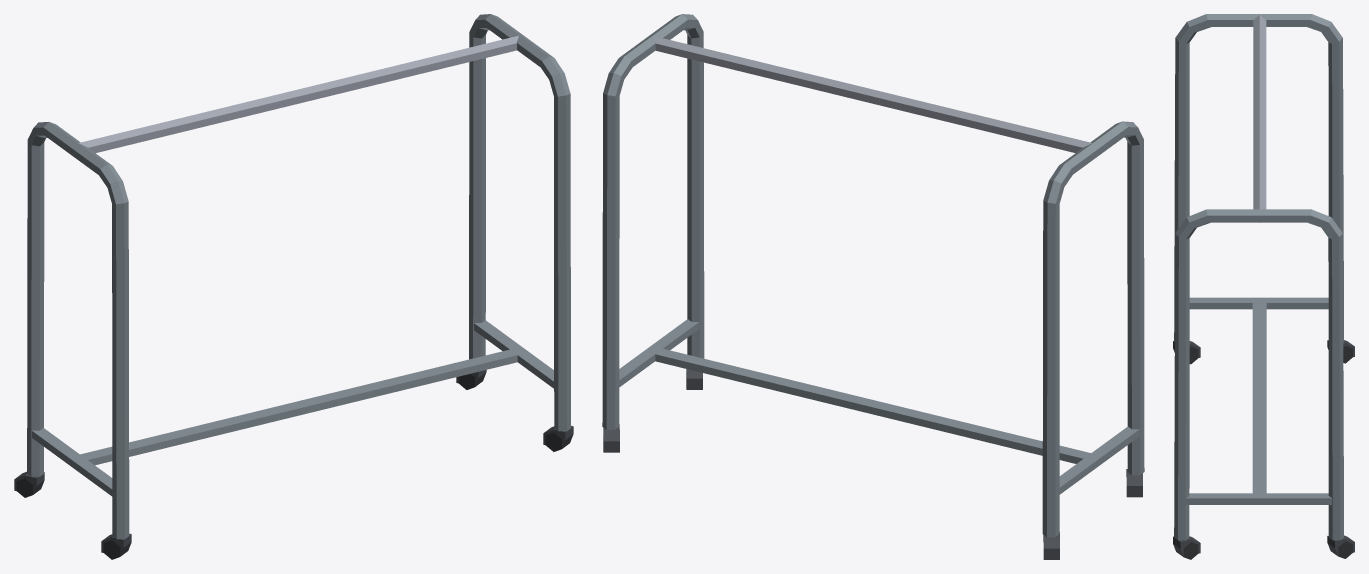
Rendered from SM_Prop_Clothes_Rack_07.fbx.
3 renders of one model, left to right at view 1: azimuth 30°, elevation 25°; view 2: azimuth 150°, elevation 25°; view 3: azimuth 270°, elevation 25°, orthographic. The views are drawn at different scales.
Parts seen in each view (by area): view 1: SM_Prop_Clothes_Rack_07; view 2: SM_Prop_Clothes_Rack_07; view 3: SM_Prop_Clothes_Rack_07.
Part boxes in pixels (x1,y1,x2,y2): SM_Prop_Clothes_Rack_07: [14, 14, 573, 559]; SM_Prop_Clothes_Rack_07: [602, 14, 1144, 559]; SM_Prop_Clothes_Rack_07: [1173, 14, 1354, 559].
Bounding box in the file's own units: 191 × 150 × 71.07.
